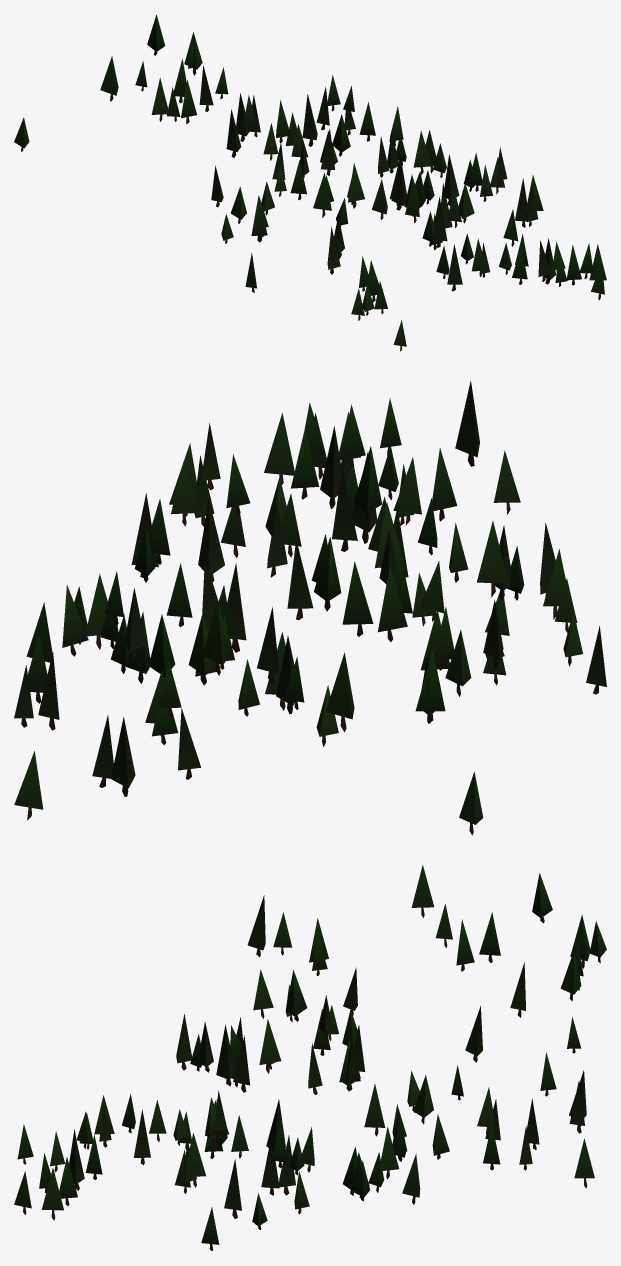
Rendered from c_trees_mountainlake_left.fbx.
The picture shows the model from 3 angles, top to bottom: view 1: azimuth 30°, elevation 25°; view 2: azimuth 150°, elevation 25°; view 3: azimuth 270°, elevation 25°; orthographic projection. The views are drawn at different scales.
Parts seen in each view (by area): view 1: c_trees_mountainlake_left; view 2: c_trees_mountainlake_left; view 3: c_trees_mountainlake_left.
Part boxes in pixels (bbox=[...]): c_trees_mountainlake_left: bbox=[14, 14, 606, 351]; c_trees_mountainlake_left: bbox=[14, 380, 606, 835]; c_trees_mountainlake_left: bbox=[14, 865, 606, 1250].
Size of the model in its own units: 101 by 56.98 by 123.
